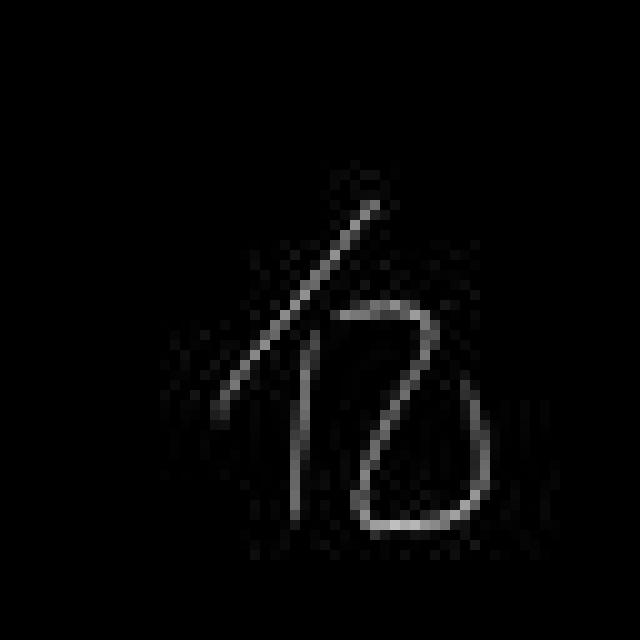100000 -a hundred thousand-: (208, 187, 501, 546)
